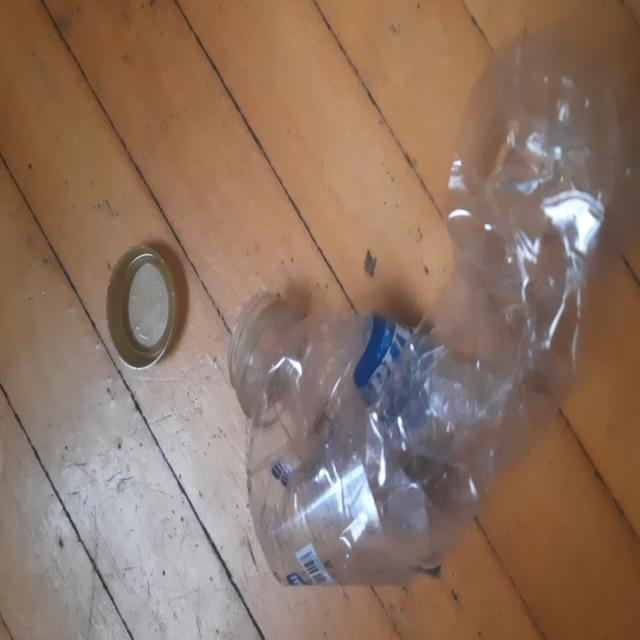Plastic: (239, 19, 634, 586)
